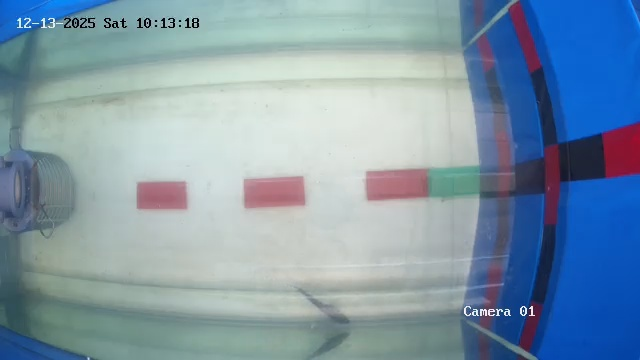fish: (297, 290, 358, 325)
